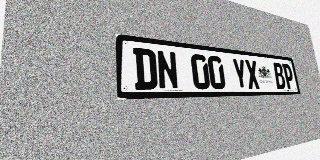0: (190, 53, 210, 89), (207, 55, 226, 89)
B: (272, 62, 286, 89)
D: (133, 47, 158, 90)
N: (156, 50, 179, 90)
P: (282, 63, 295, 89)
X: (244, 59, 260, 89)
Y: (231, 58, 248, 89)
